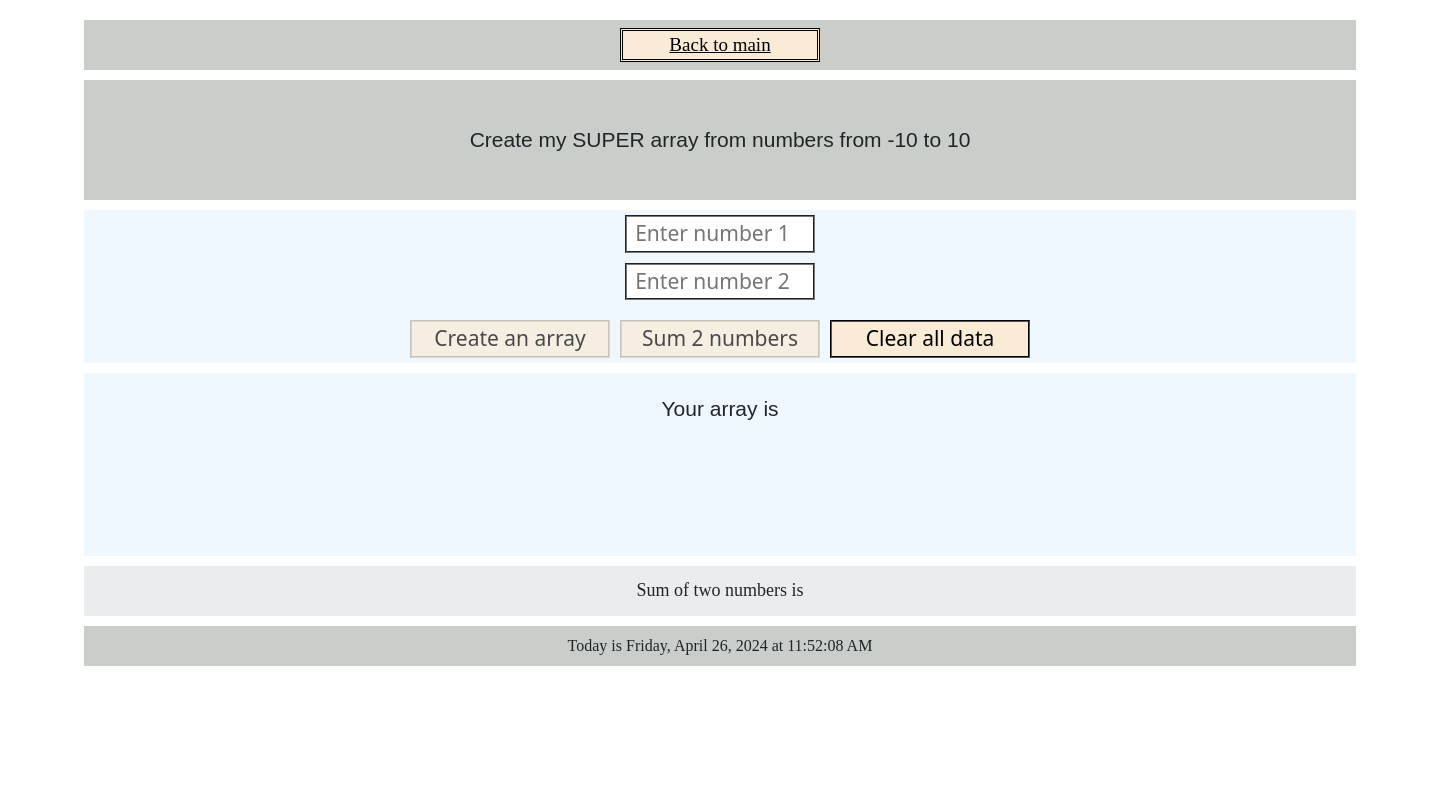
Test: check options - validation of one item with blur › input only second item
Step 1. Type "10" into the number field with id "num2" → coordinates (720, 282), box [625,263,815,301]
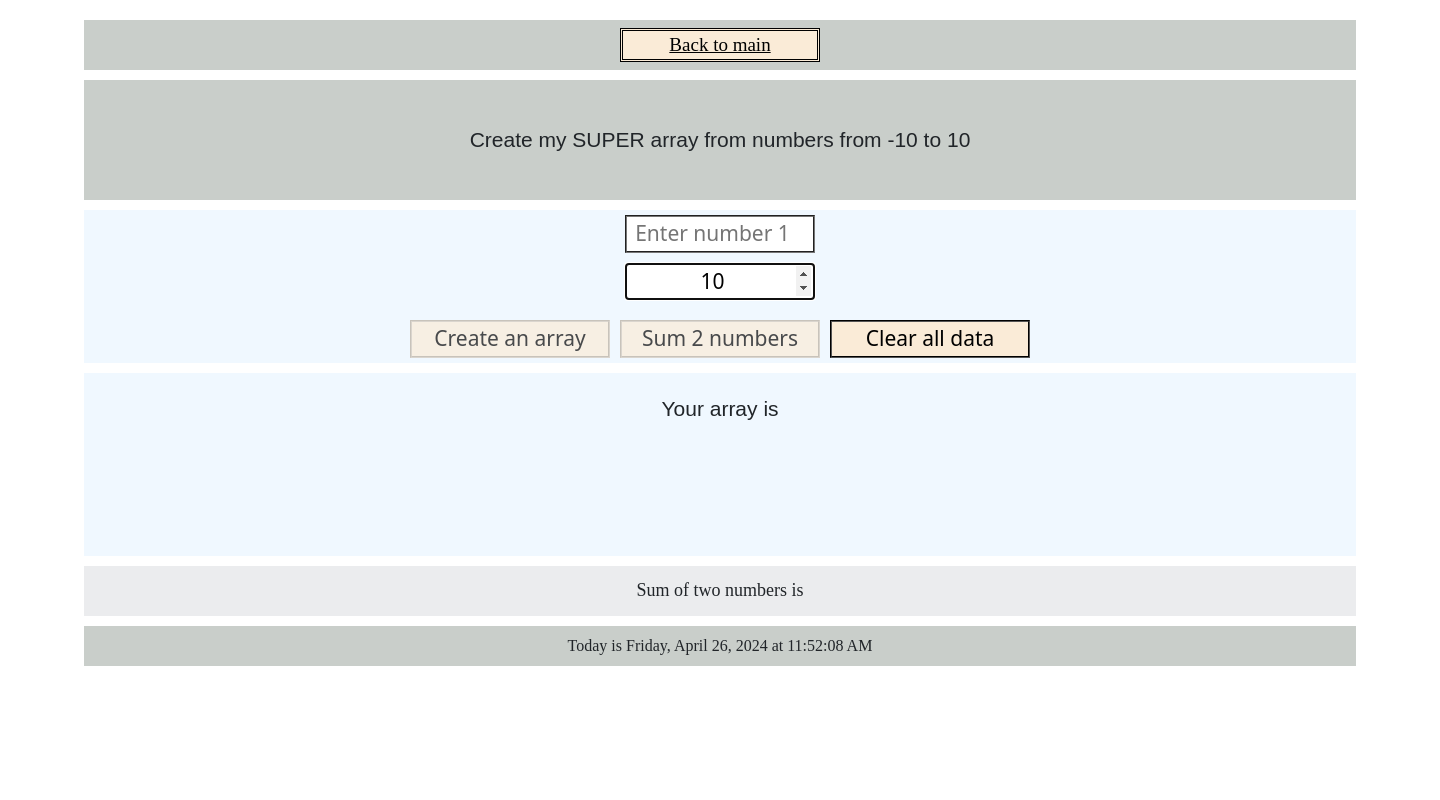
Step 2. Focus the number field with id "num1" → coordinates (720, 234), box [625,215,815,253]
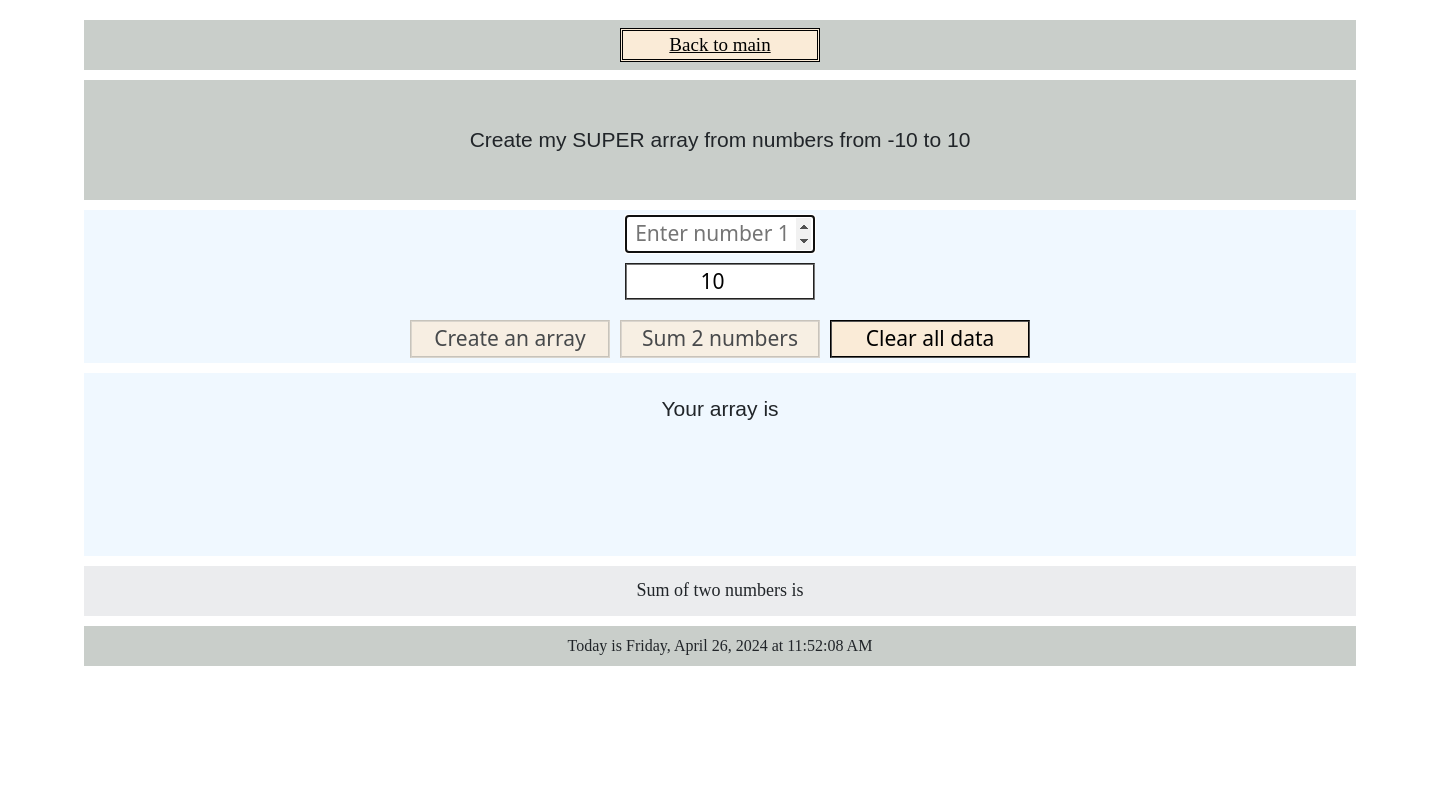
Step 3. Leave the number field with id "num1", box [625,215,815,253]
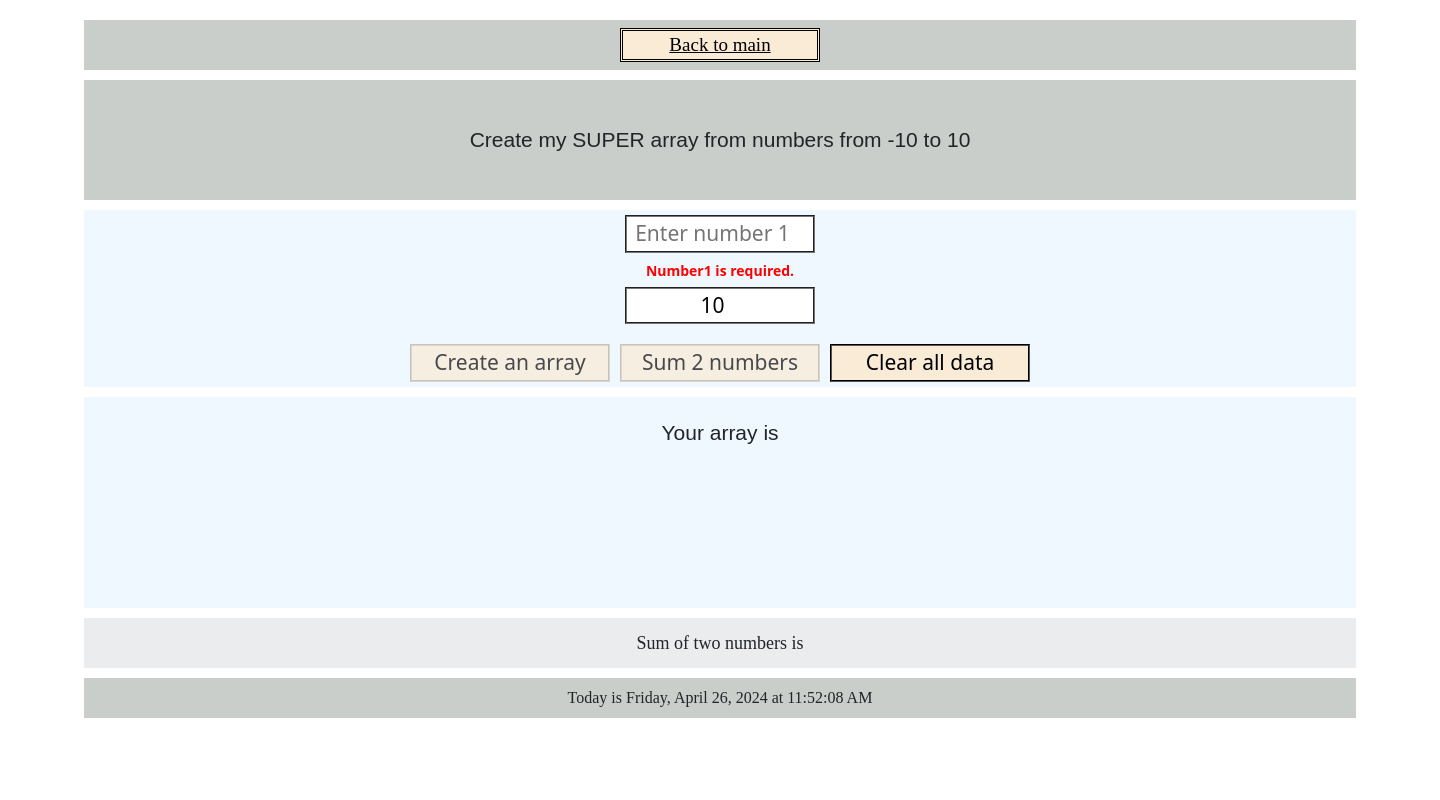
Expected: the button with id "createArray" is disabled, [410,344,610,382]
Now the text "Number1 is required." is shown, box [646,260,794,280]
Now the text with class "small1" shows "Number1 is required", box [646,261,794,280]
